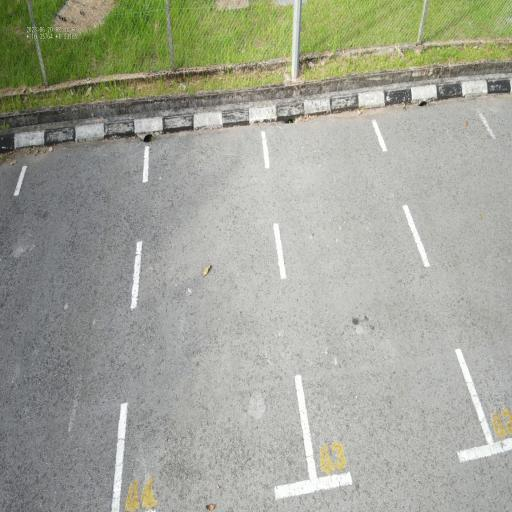Empty: (258, 112, 497, 496), (106, 125, 329, 512)
